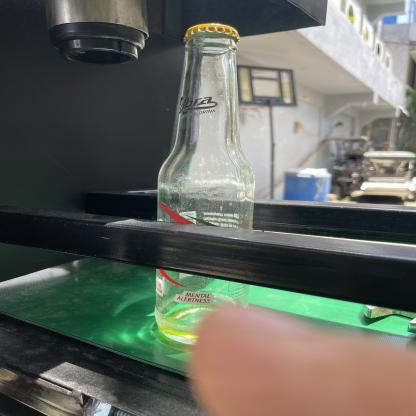Can: (151, 18, 258, 353)
